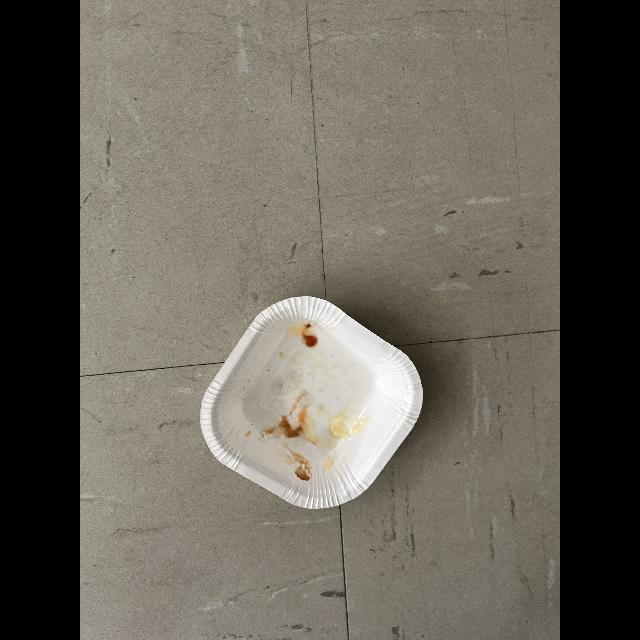cardboard_bowl: (193, 287, 427, 518)
